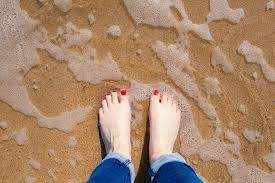Feet: (97, 90, 133, 172), (147, 90, 182, 172)
